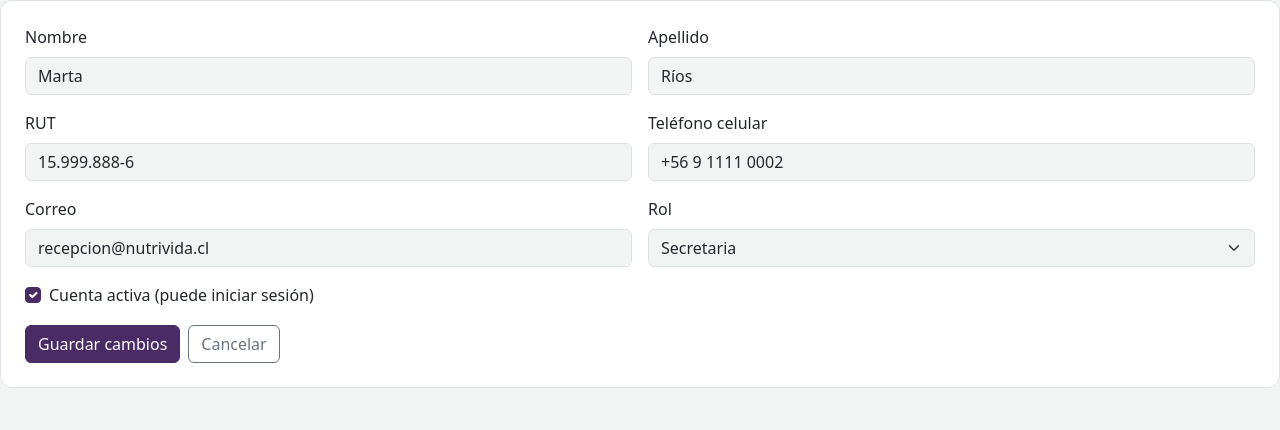
FormUsuario › muestra bajo el campo el error que devuelve el guardado
Step 1. Click the button "Guardar cambios" → {"x": 103, "y": 344}, box [25,325,180,363]
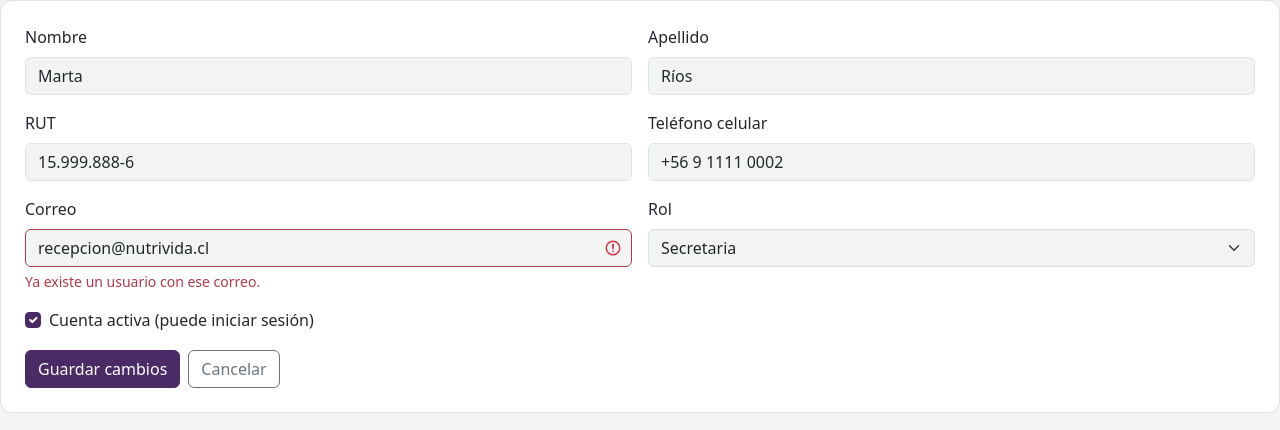
Expected: the text "Ya existe un usuario con ese correo." is shown, [25,272,260,291]
